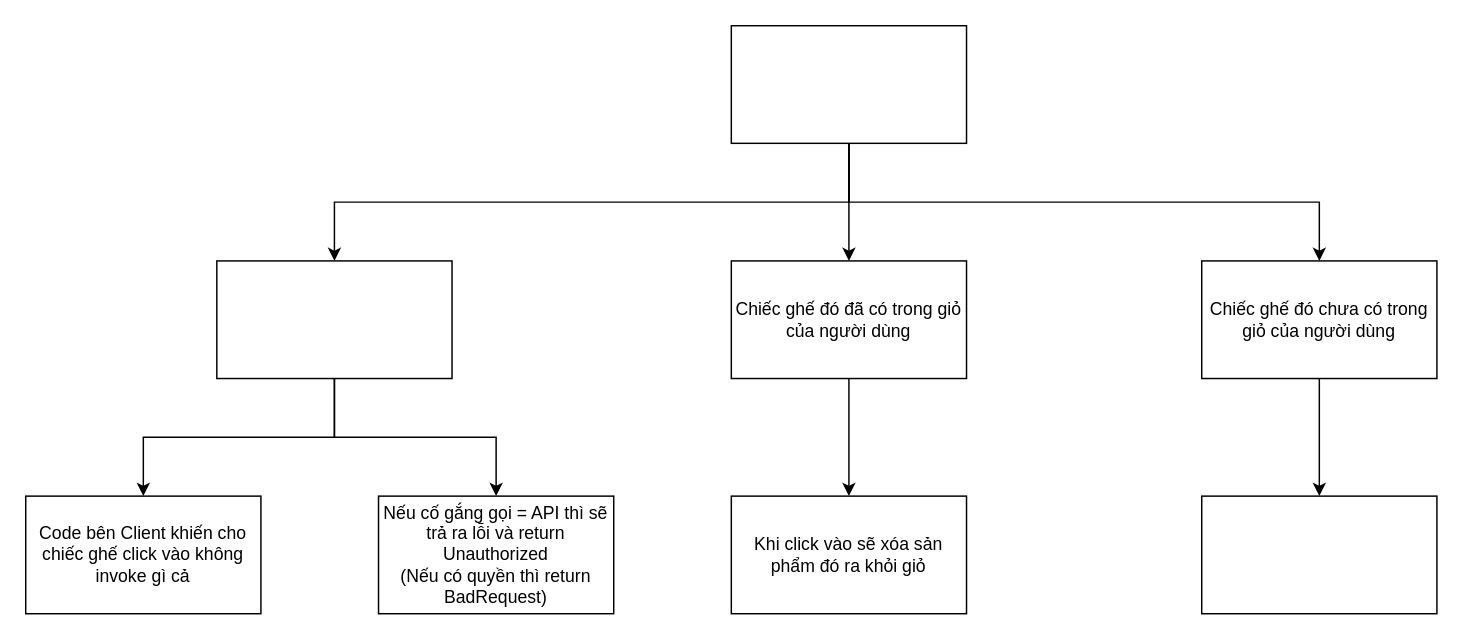
This 1463x639 diagram has some shape labels left out. The shapes that lost their labels are listed below. From the top down, each one's box as (x1, y1, x2, y2) in pixels, then its label:
(730, 24, 967, 143): Người dùng nhấn vào ghế muốn thêm vào giỏ vé
(215, 259, 452, 379): Chiếc ghế đó đã có người khác đặt
(1200, 495, 1437, 614): Khi click vào sẽ thêm sản phẩm đó vào giỏ
